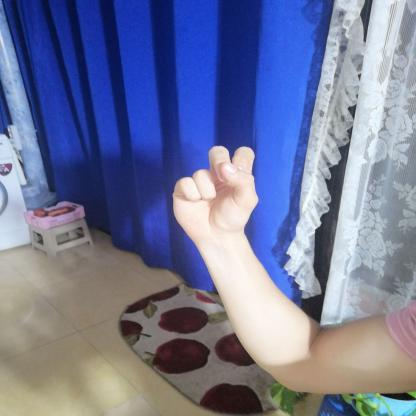QAAF: (158, 137, 272, 250)
